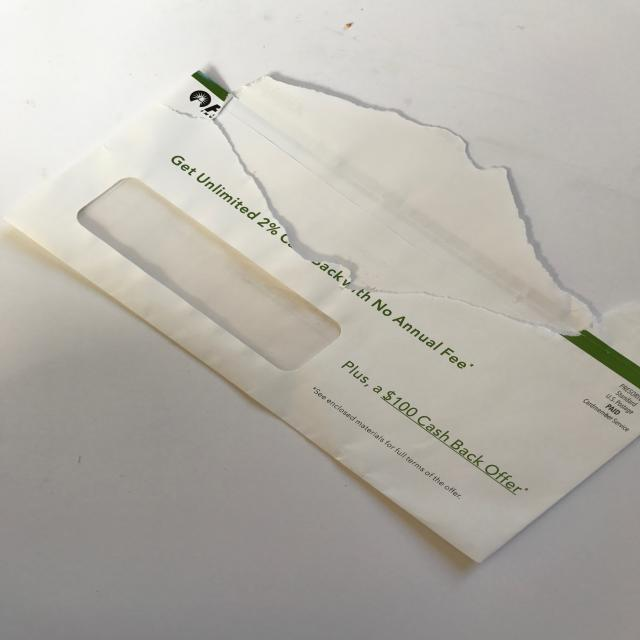paper: (7, 66, 640, 567)
